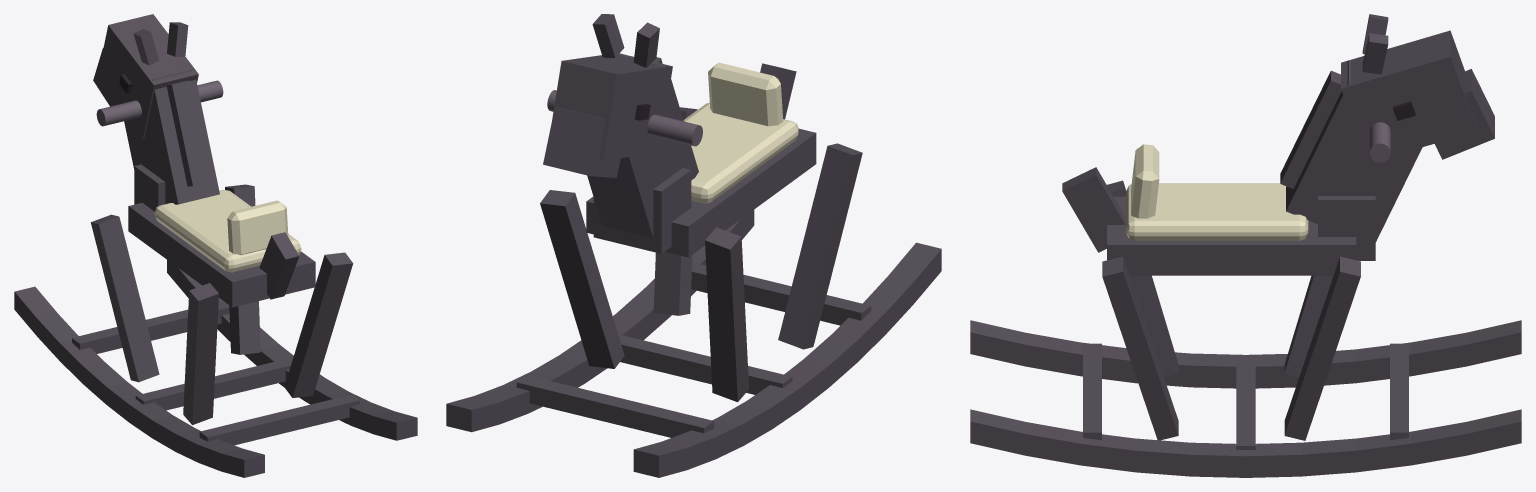
Rendered from caballito_balancin.glb.
3 renders of one model, left to right at view 1: azimuth 30°, elevation 25°; view 2: azimuth 150°, elevation 25°; view 3: azimuth 270°, elevation 25°, orthographic. The views are drawn at different scales.
Parts seen in each view (by area): view 1: Horse_Body, Horse_Saddle; view 2: Horse_Body, Horse_Saddle; view 3: Horse_Body, Horse_Saddle.
Boxes of the visible parts, left/top/right/bottom form: Horse_Body: left=14, top=14, right=417, bottom=477; Horse_Saddle: left=154, top=190, right=301, bottom=272; Horse_Body: left=446, top=14, right=941, bottom=477; Horse_Saddle: left=683, top=62, right=798, bottom=203; Horse_Body: left=970, top=14, right=1521, bottom=477; Horse_Saddle: left=1126, top=144, right=1308, bottom=240.
Bounding box in the file's own units: 0.5 × 0.925 × 1.15.
